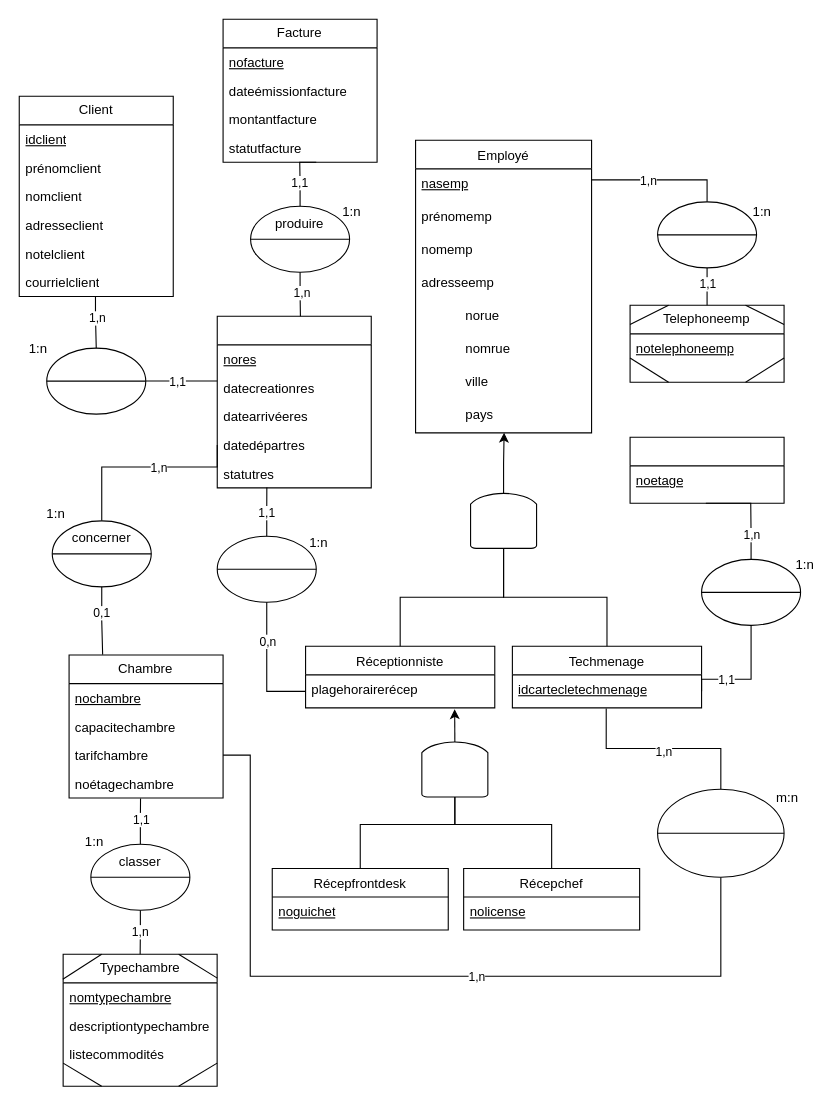
This 838x1109 diagram has some shape labels left out. Here are the shapes that lost their labels. From the top down, the box of each, then its label:
(656, 201, 757, 268): avoir
(46, 347, 146, 414): réserver
(216, 315, 371, 488): Réservation
(629, 436, 784, 503): Étage
(216, 535, 316, 602): gérer
(700, 558, 801, 625): affecter
(656, 788, 784, 877): nettoyer datenettoyage
